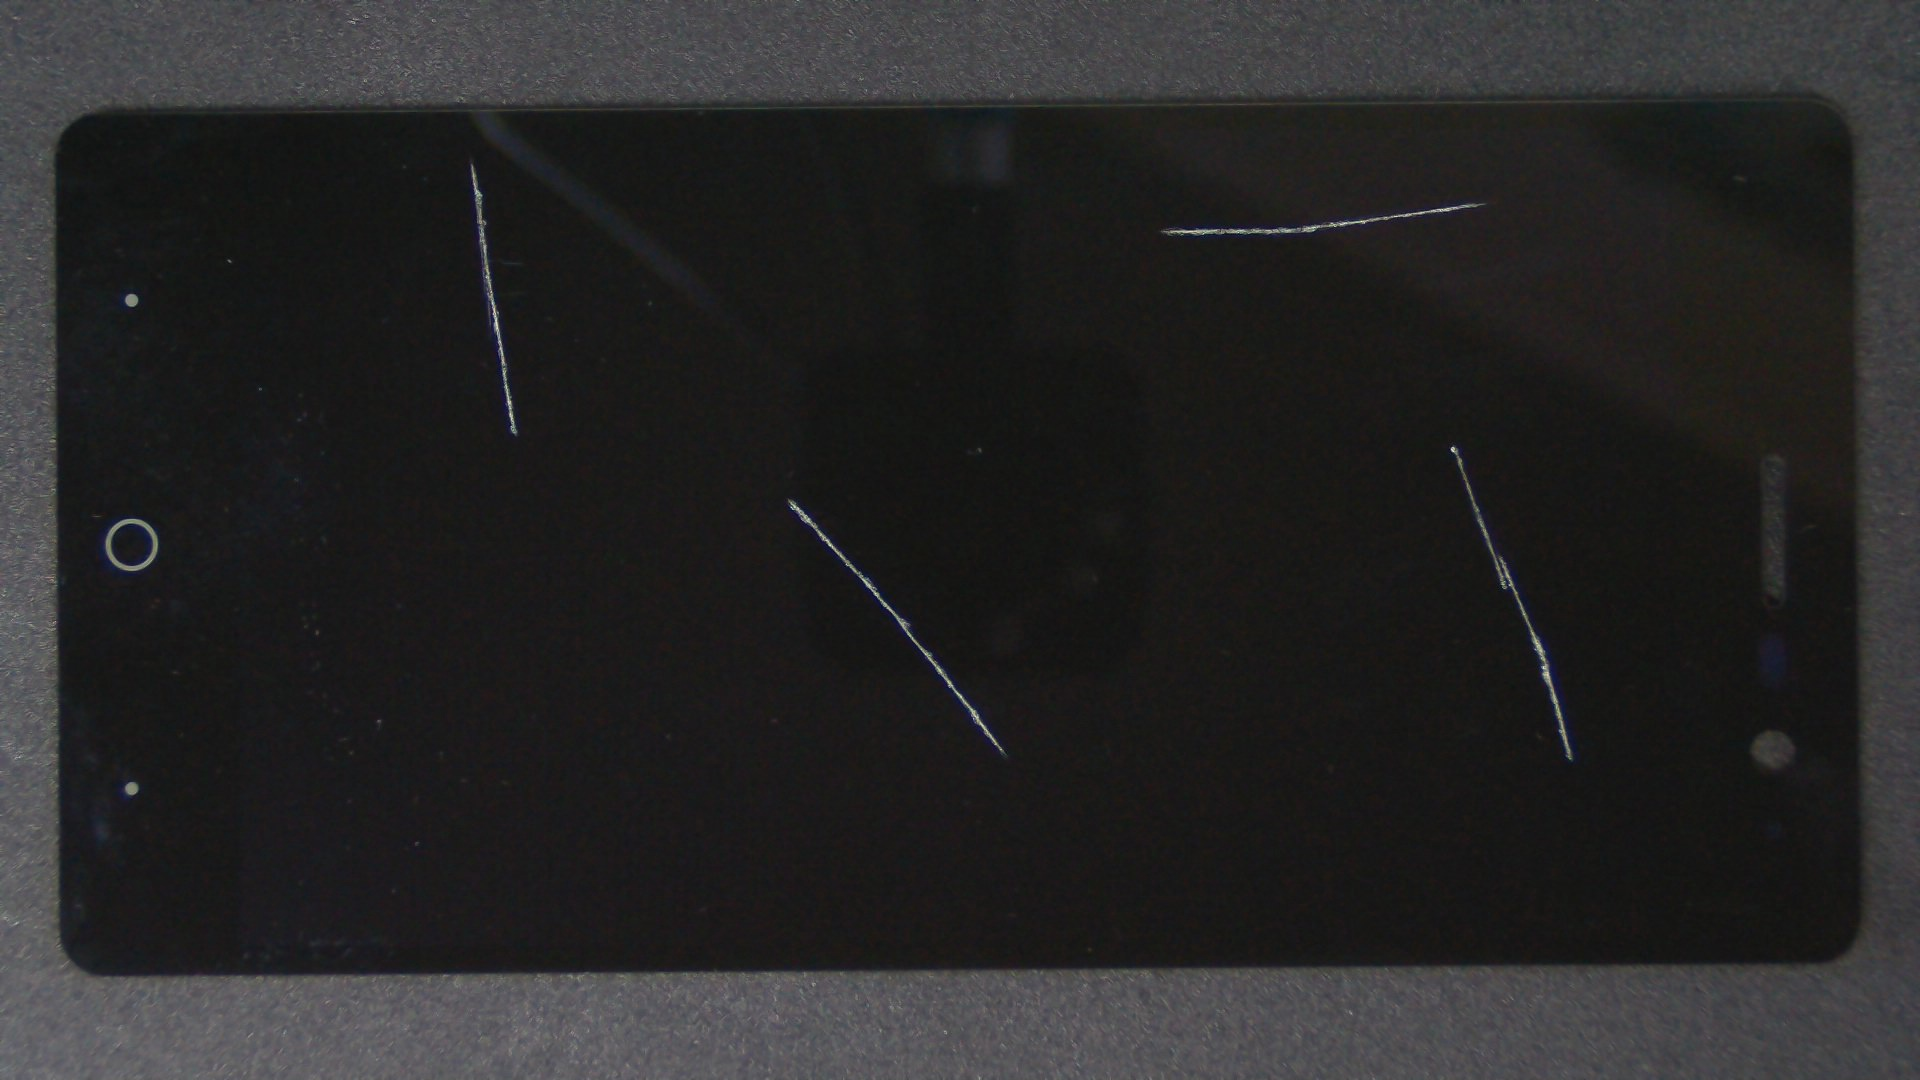oil: (725, 222, 1920, 666), (394, 248, 1182, 746), (733, 100, 1920, 303), (235, 75, 703, 248)
